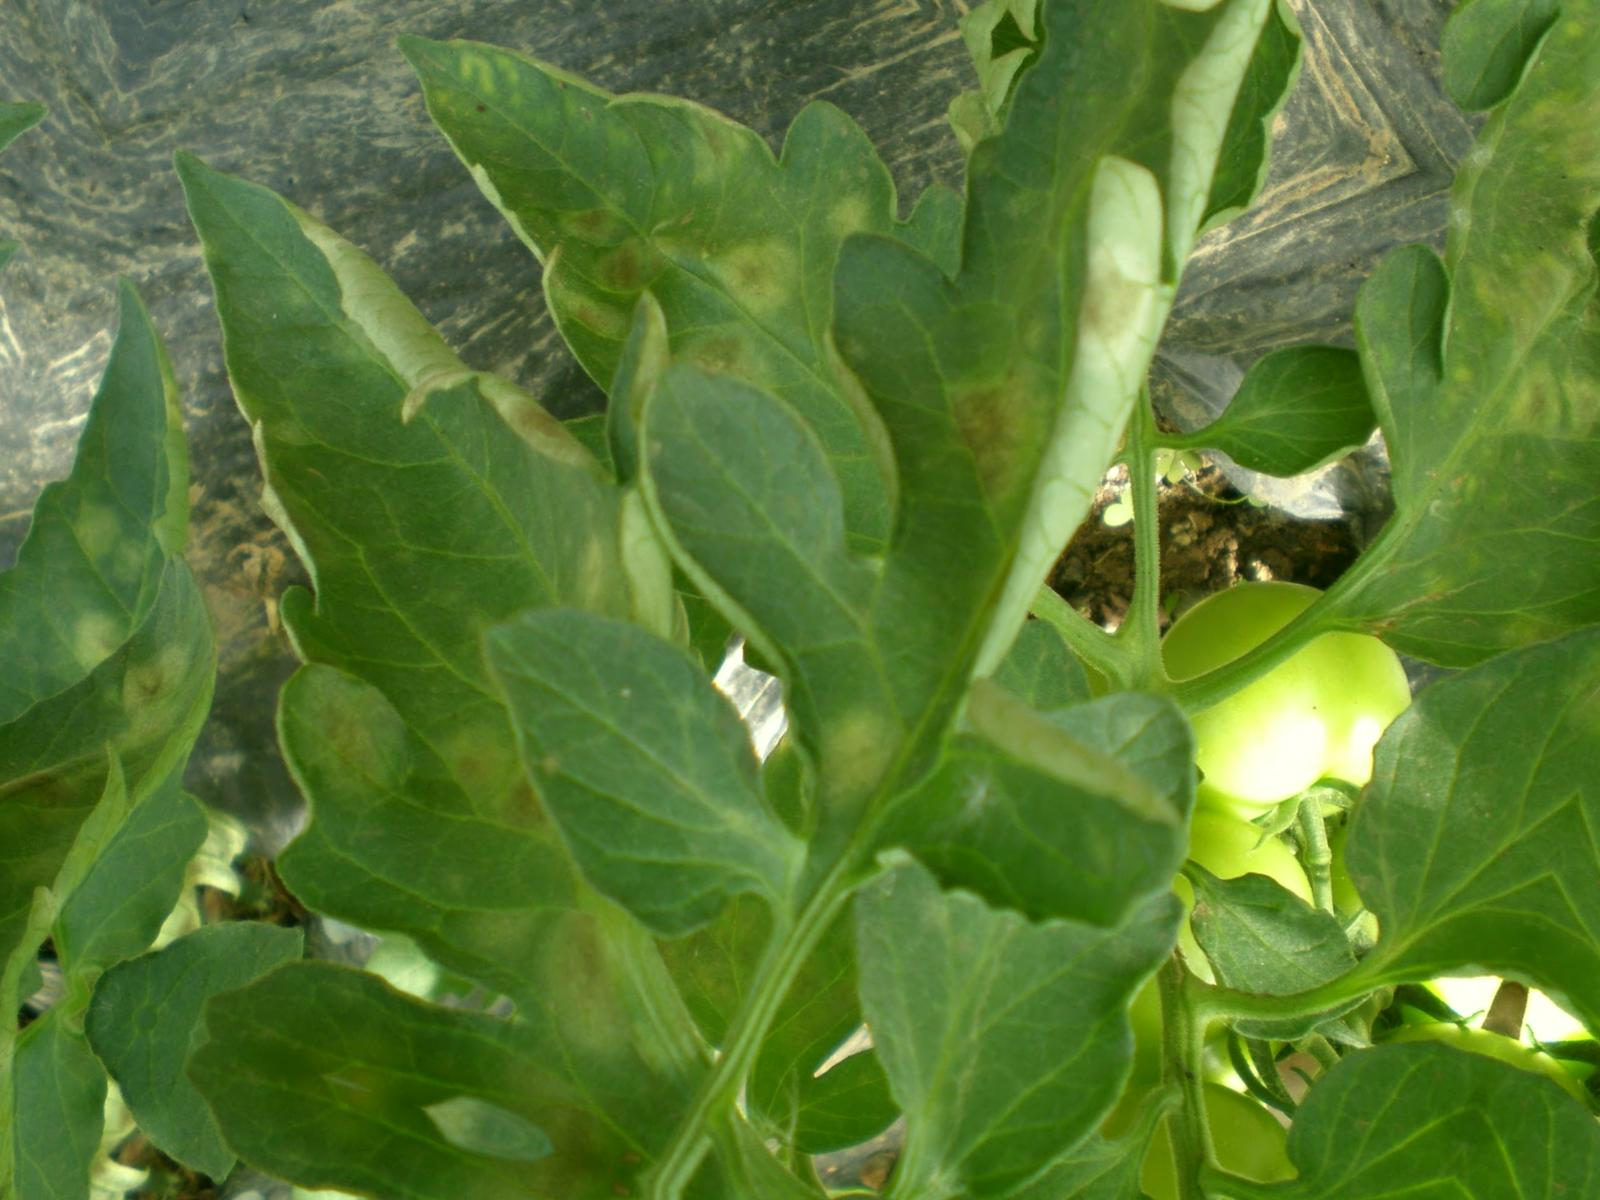Tomato mold leaf: (0, 160, 979, 1161), (301, 0, 979, 613), (721, 40, 1240, 823), (0, 270, 348, 1015), (1252, 164, 1600, 739), (763, 821, 1193, 1200)
